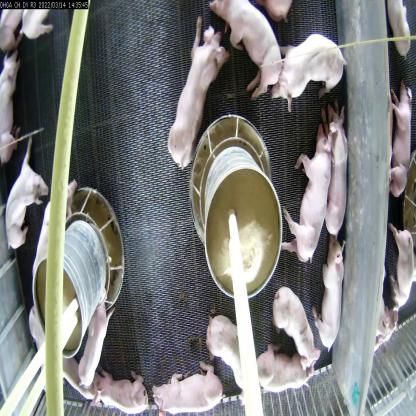Pig: (166, 7, 232, 177), (280, 118, 334, 263), (213, 0, 285, 99), (270, 32, 349, 109), (32, 172, 82, 278), (4, 133, 48, 251), (269, 280, 321, 378), (320, 94, 354, 236), (206, 304, 252, 407), (311, 228, 347, 353), (75, 286, 117, 392), (152, 361, 225, 416), (254, 333, 313, 398), (86, 361, 154, 416), (0, 47, 28, 162), (387, 80, 413, 198), (387, 217, 415, 314)
